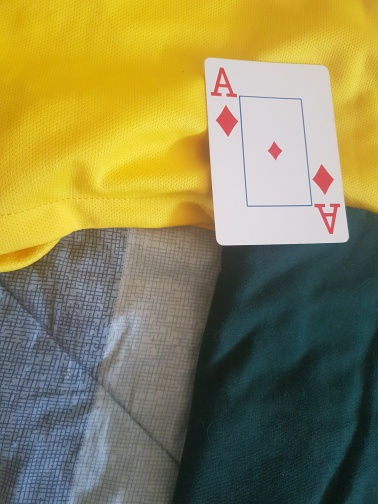ace: (205, 56, 350, 244)
